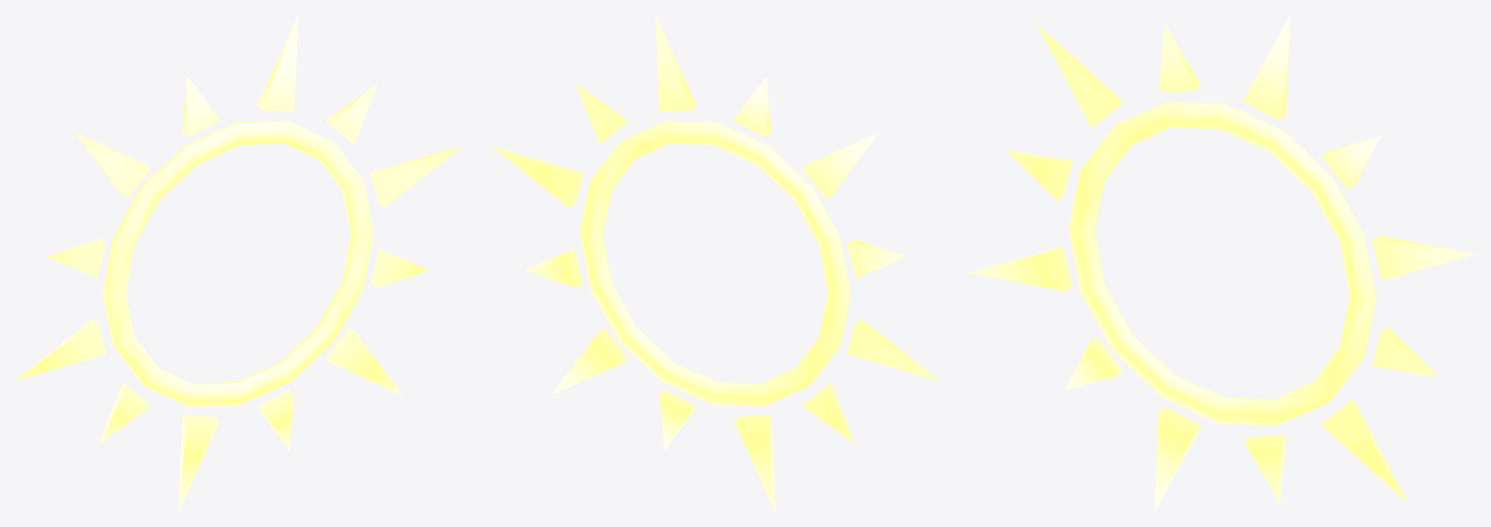
Rendered from hao-quang.glb.
3 renders of one model, left to right at view 1: azimuth 30°, elevation 25°; view 2: azimuth 150°, elevation 25°; view 3: azimuth 330°, elevation 25°, orthographic. The views are drawn at different scales.
Parts seen in each view (by area): view 1: HaoQuang; view 2: HaoQuang; view 3: HaoQuang.
Boxes of the visible parts, left/top/right/bottom form: HaoQuang: left=15, top=14, right=461, bottom=512; HaoQuang: left=492, top=14, right=938, bottom=512; HaoQuang: left=969, top=14, right=1475, bottom=512.
Size of the model in its own units: 0.908 by 0.908 by 0.015.
